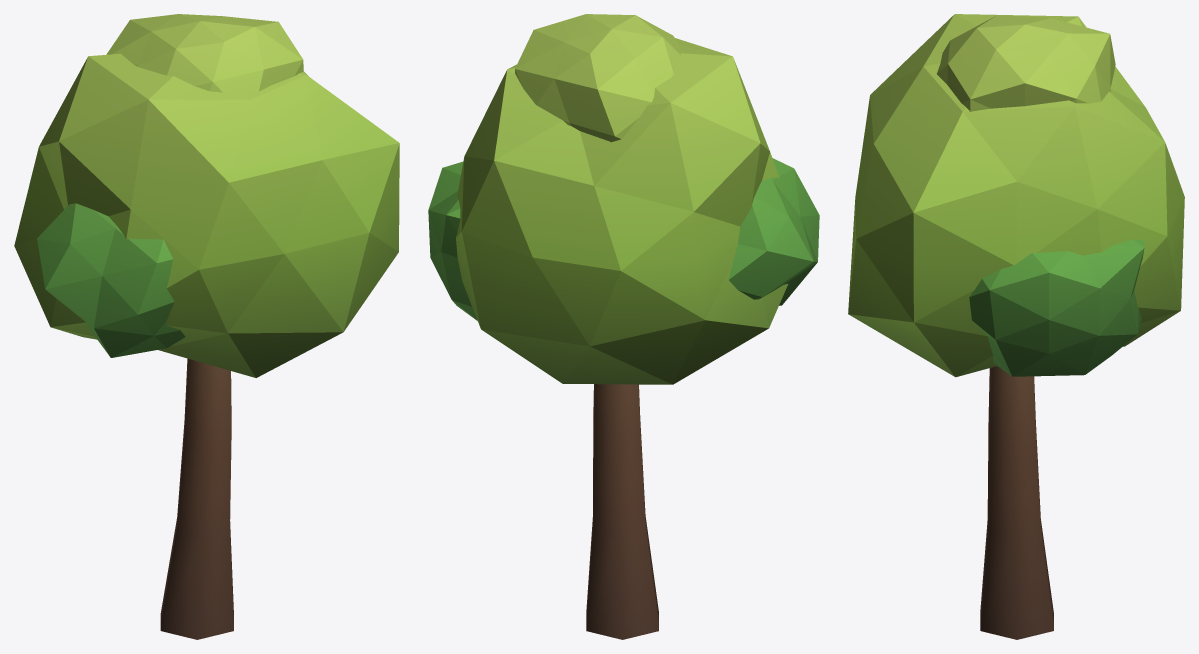
File: tree_round.glb
The picture shows the model from 3 angles, left to right: view 1: azimuth 30°, elevation 25°; view 2: azimuth 150°, elevation 25°; view 3: azimuth 270°, elevation 25°; orthographic projection.
Parts seen in each view (by area): view 1: tree_round; view 2: tree_round; view 3: tree_round.
Part boxes in pixels (bbox=[...]): tree_round: bbox=[14, 14, 399, 639]; tree_round: bbox=[428, 14, 819, 639]; tree_round: bbox=[848, 14, 1184, 639].
Size of the model in its own units: 9.88 by 16.55 by 8.41.
1 material, 1 textured.
